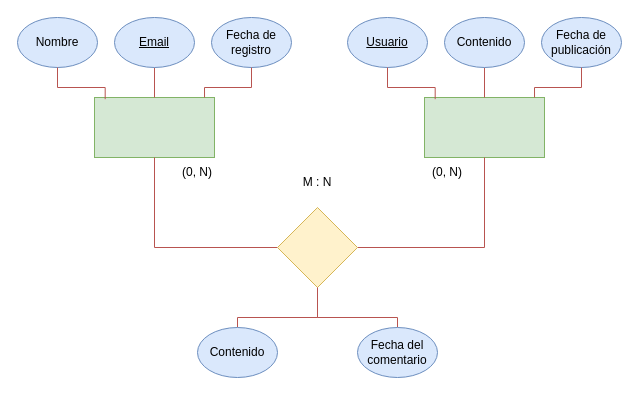
This 639x395 diagram has some shape labels left out. The shapes that lost their labels are listed below. From the top down, each one's centre as x and y in pixels, then its label:
At point 154,127: "Usuarios".
At point 484,127: "Publicaciones".
At point 317,247: "Comentan".
